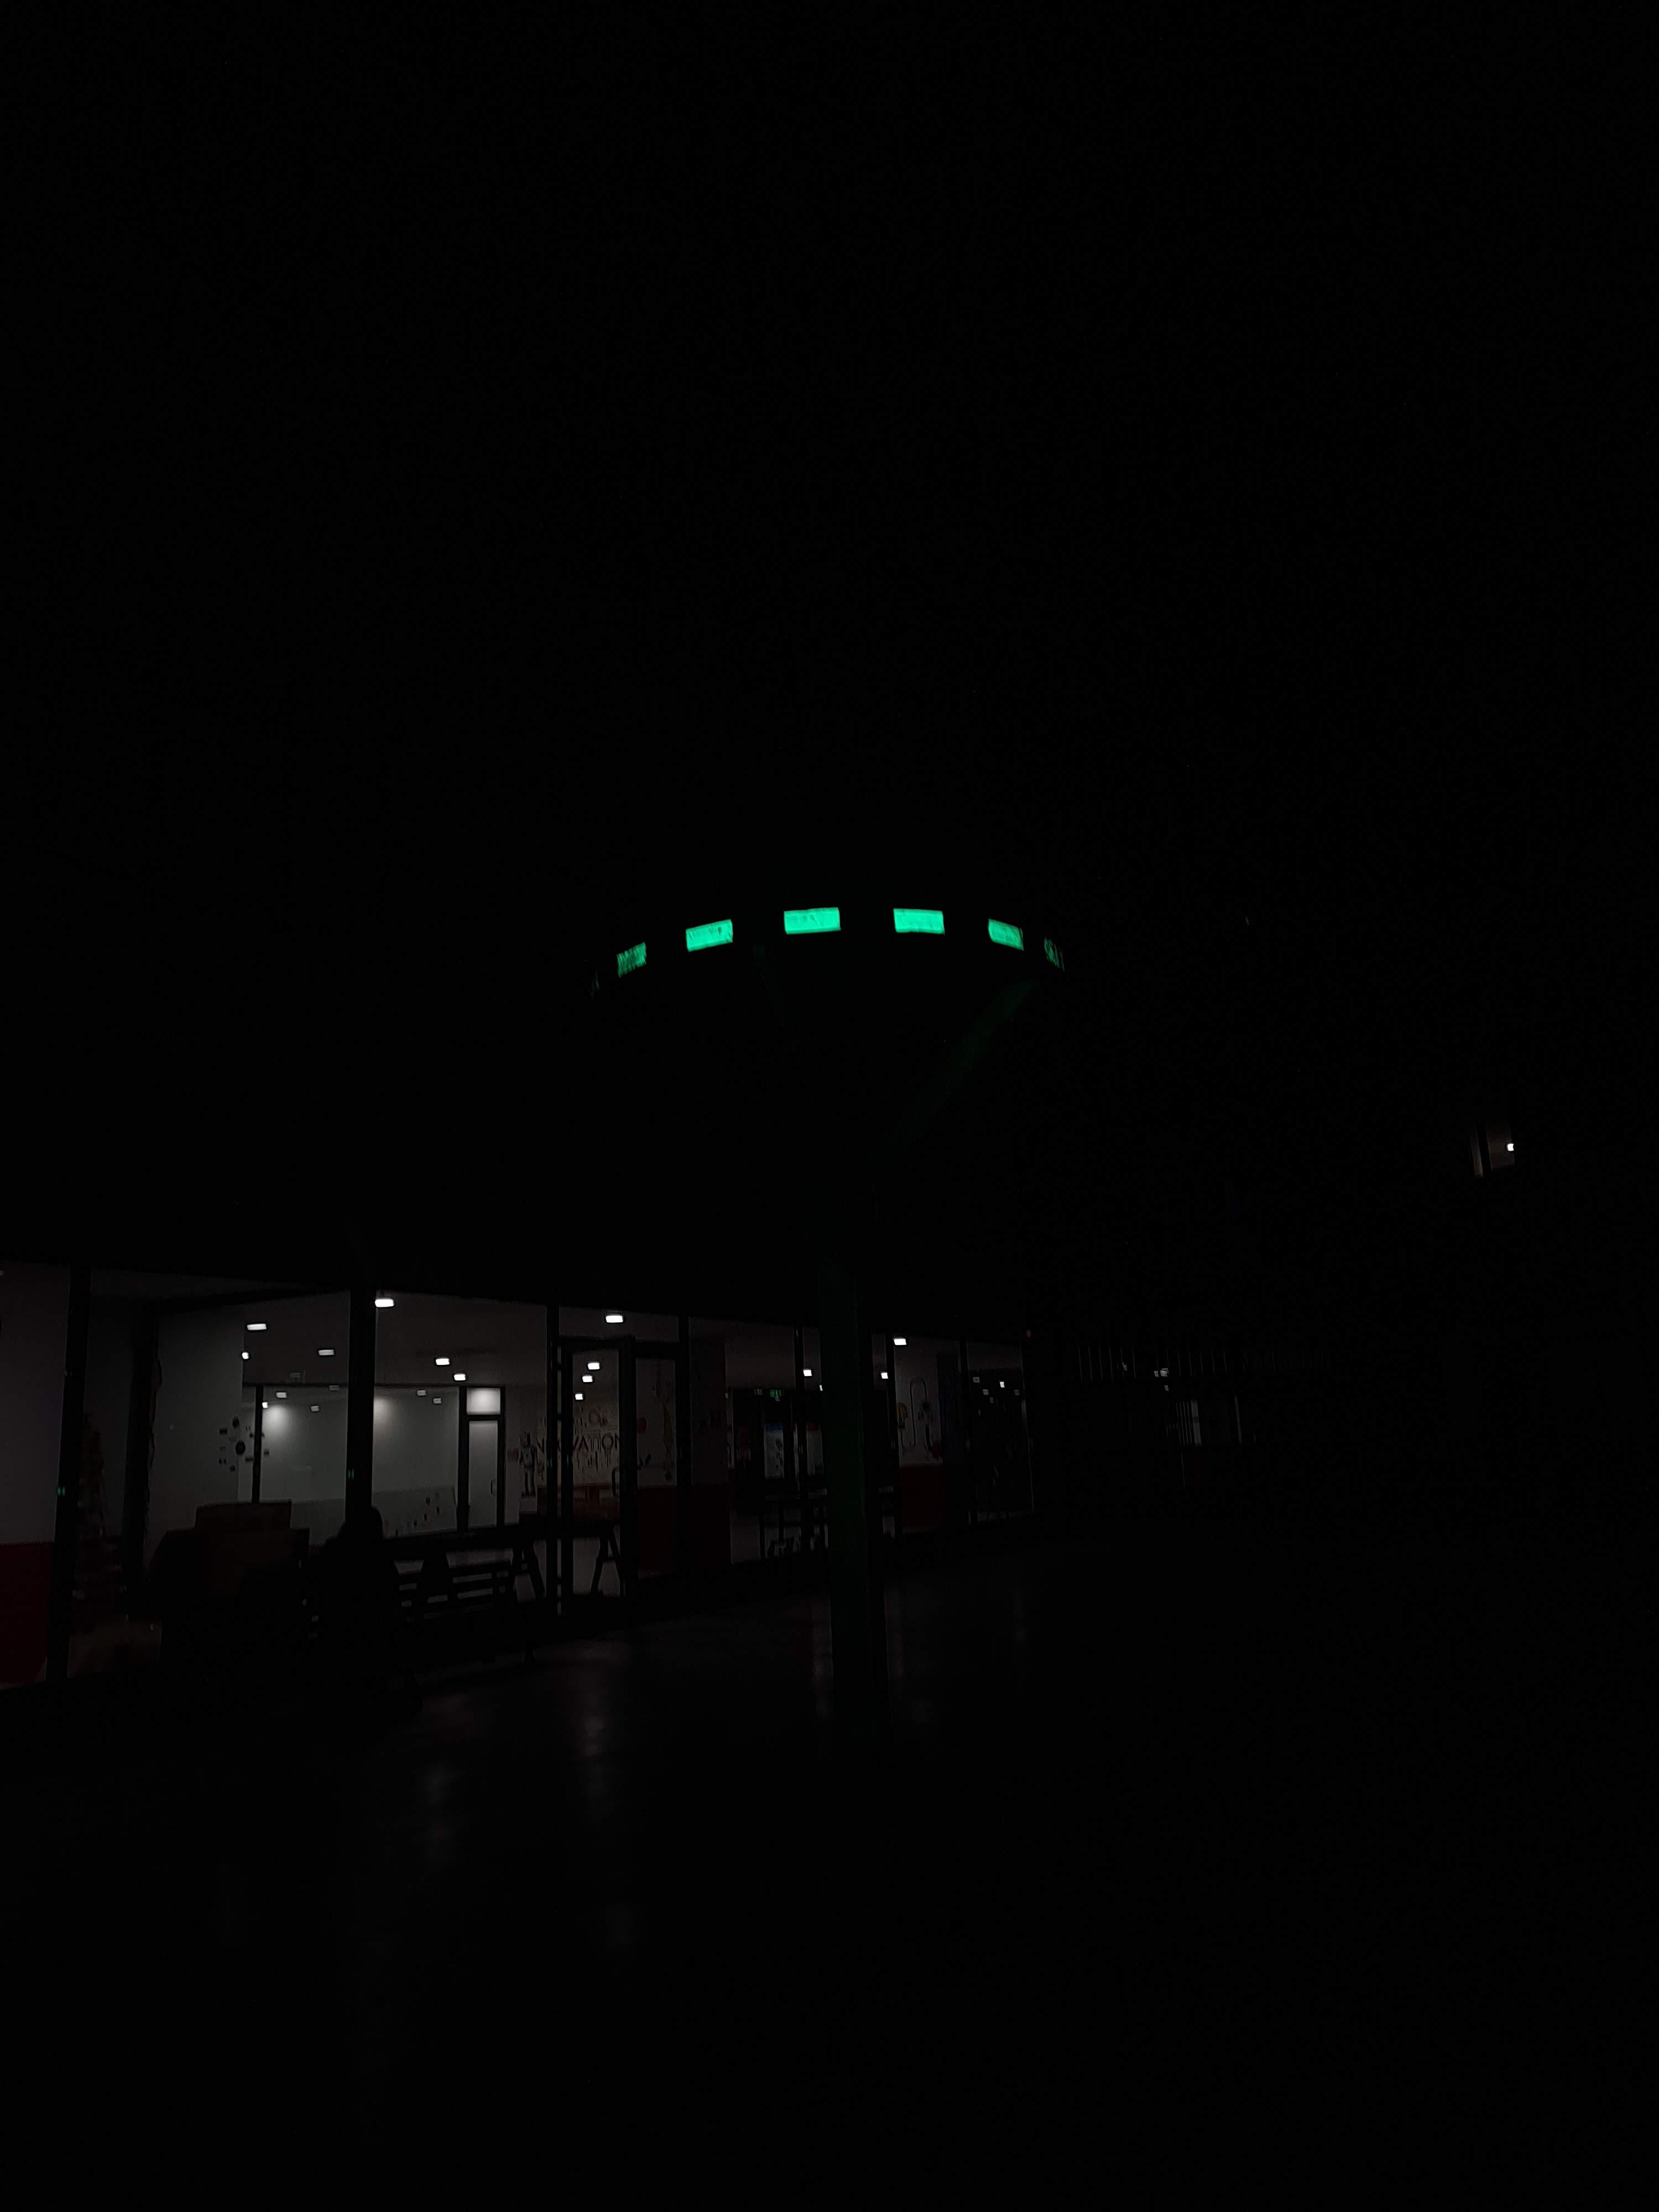hoop: (601, 900, 1073, 982)
